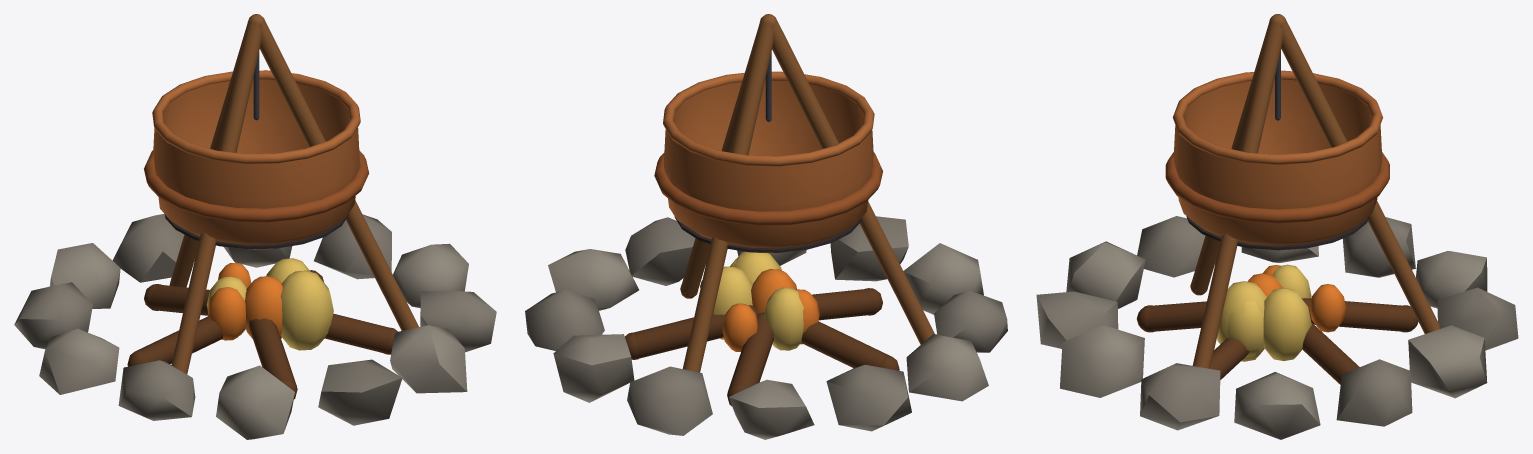
The model's file is ocak.fbx.
3 views of the same model, side by side, from view 1: azimuth 30°, elevation 25°; view 2: azimuth 150°, elevation 25°; view 3: azimuth 270°, elevation 25° (orthographic).
Parts seen in each view (by area): view 1: ocak; view 2: ocak; view 3: ocak.
Part boxes in pixels (left/top/right/bottom): ocak: left=14, top=14, right=496, bottom=439; ocak: left=525, top=14, right=1007, bottom=439; ocak: left=1036, top=14, right=1518, bottom=439.
Bounding box in the file's own units: 3.24 × 2.53 × 3.23.
